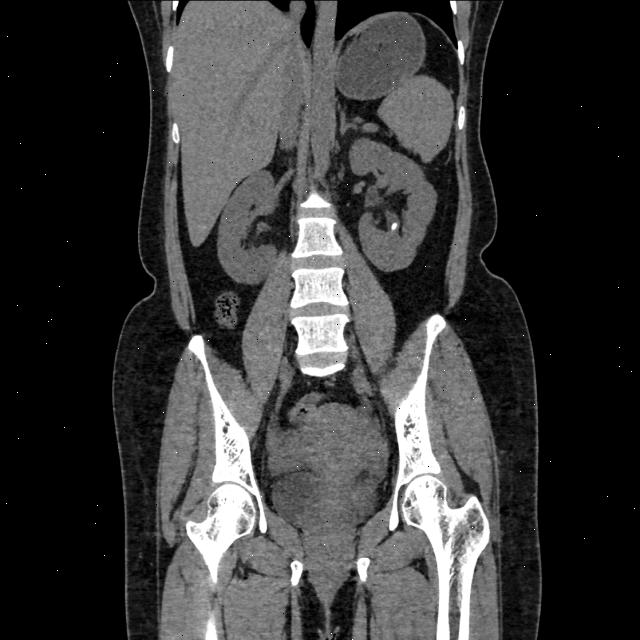kidneystone: (391, 222, 398, 230)
